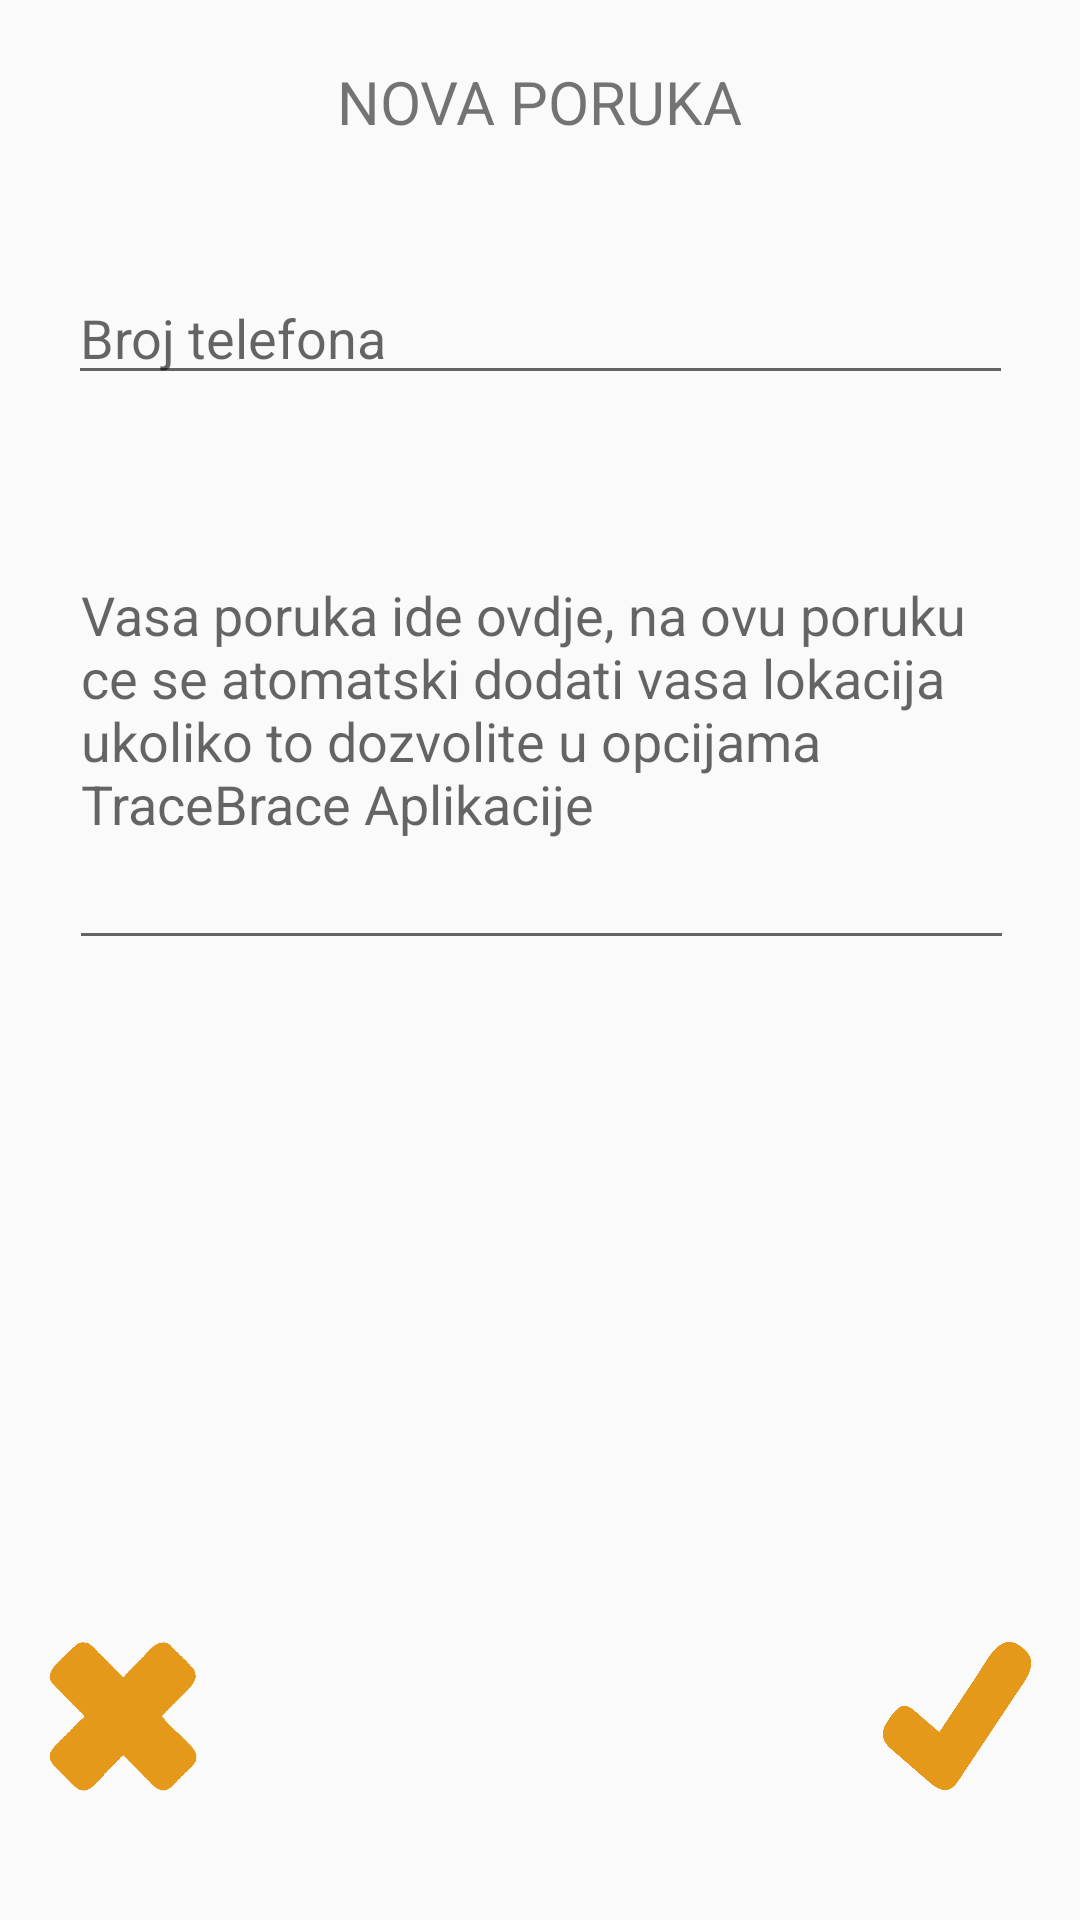

Icon click points for this 1080×1920 phone screenshot, format (x,y):
check: (957,1716)
not: (123,1716)
